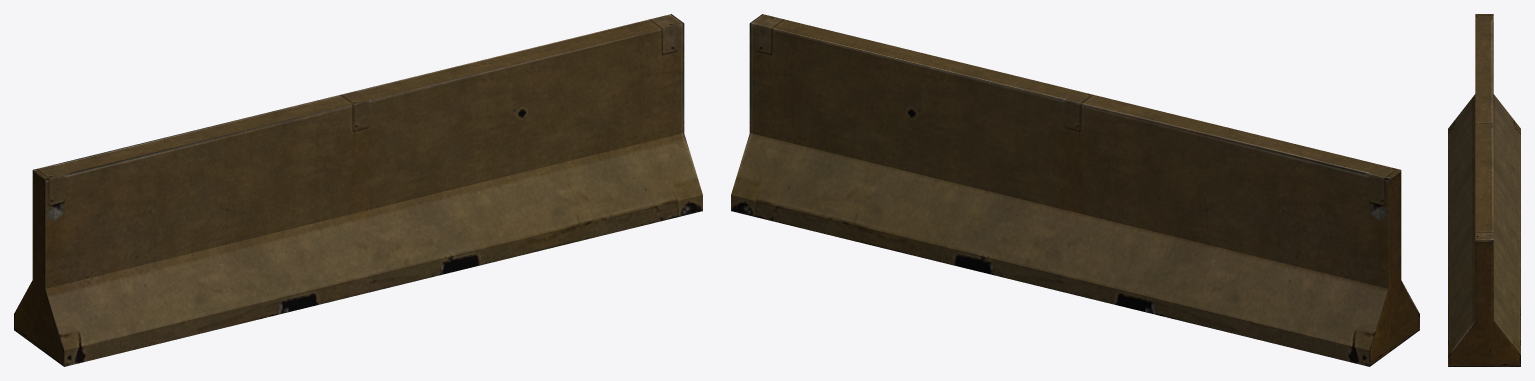
File: barricade_a_1.obj
3 renders of one model, left to right at view 1: azimuth 30°, elevation 25°; view 2: azimuth 150°, elevation 25°; view 3: azimuth 270°, elevation 25°, orthographic. The views are drawn at different scales.
Visible parts, largest first — view 1: barricade_a_1; view 2: barricade_a_1; view 3: barricade_a_1.
Part boxes in pixels (x1=…): barricade_a_1: x1=14, y1=14, x2=702, y2=366; barricade_a_1: x1=731, y1=14, x2=1419, y2=366; barricade_a_1: x1=1448, y1=14, x2=1520, y2=366.
Size of the model in its own units: 2.94 by 0.766 by 0.4.
